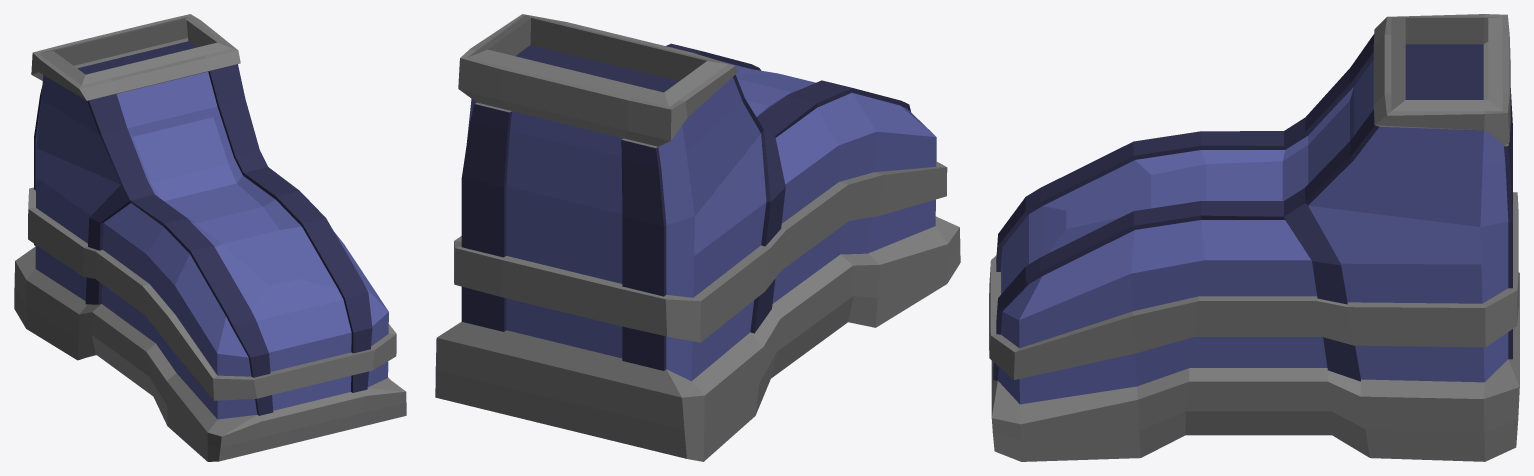
File: DJump(P).fbx
3 views of the same model, side by side, from view 1: azimuth 30°, elevation 25°; view 2: azimuth 150°, elevation 25°; view 3: azimuth 270°, elevation 25° (orthographic). The views are drawn at different scales.
Visible parts, largest first — view 1: Cube; view 2: Cube; view 3: Cube.
Part boxes in pixels (bbox=[...]): Cube: bbox=[14, 14, 406, 461]; Cube: bbox=[435, 14, 960, 461]; Cube: bbox=[989, 14, 1519, 461].
Bounding box in the file's own units: 221 × 300 × 419.
